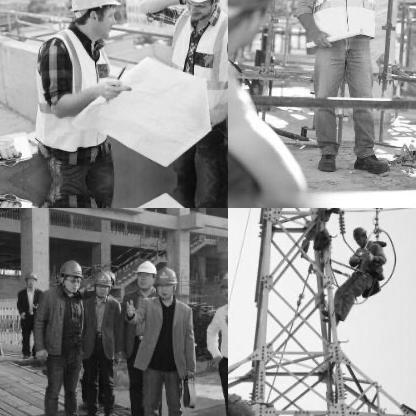Helmet: (228, 0, 285, 56), (67, 0, 125, 36), (175, 0, 228, 22), (57, 258, 83, 292), (153, 264, 177, 300), (133, 256, 155, 290), (90, 268, 114, 298), (217, 266, 227, 303), (349, 222, 367, 242), (21, 268, 37, 288)
